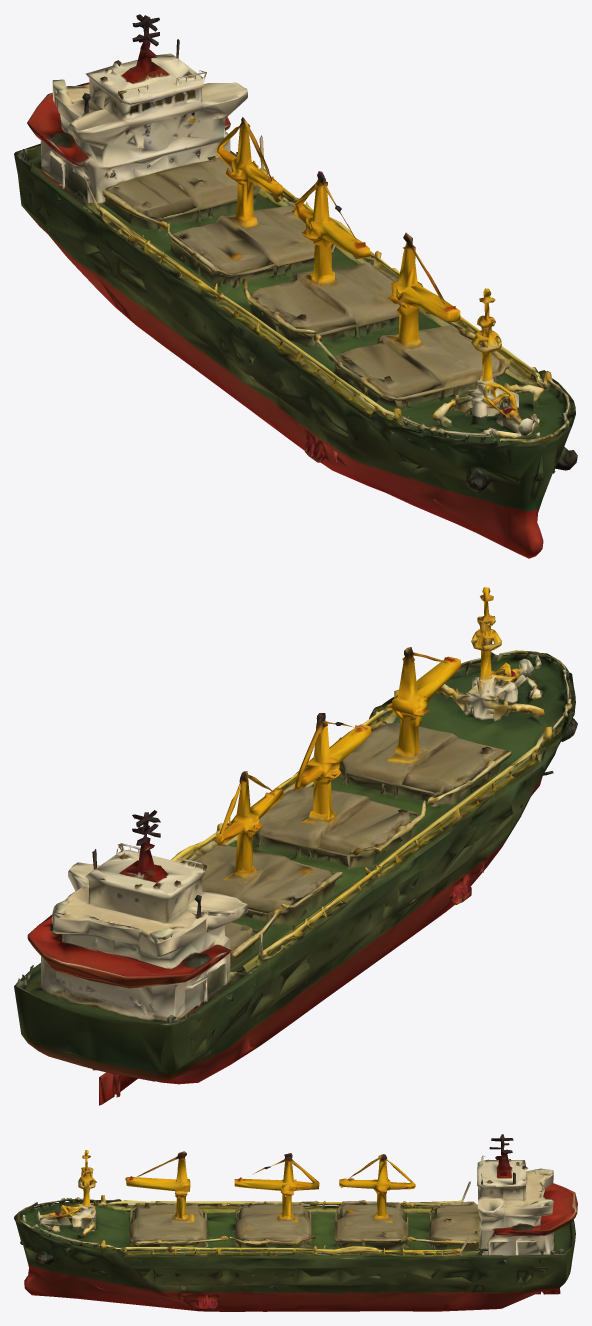
Rendered from ship_bulk.glb.
3 views of the same model, one above another, from view 1: azimuth 30°, elevation 25°; view 2: azimuth 150°, elevation 25°; view 3: azimuth 270°, elevation 25° (orthographic). The views are drawn at different scales.
Visible parts, largest first — view 1: tripo_node_4bb346d3-8506-42de-831d-c11d4117e715; view 2: tripo_node_4bb346d3-8506-42de-831d-c11d4117e715; view 3: tripo_node_4bb346d3-8506-42de-831d-c11d4117e715.
Part boxes in pixels (bbox=[...]): tripo_node_4bb346d3-8506-42de-831d-c11d4117e715: bbox=[14, 14, 577, 558]; tripo_node_4bb346d3-8506-42de-831d-c11d4117e715: bbox=[14, 587, 577, 1105]; tripo_node_4bb346d3-8506-42de-831d-c11d4117e715: bbox=[14, 1134, 577, 1311].
Size of the model in its own units: 0.2191 by 0.3053 by 0.9819.
1 material, 1 textured.
